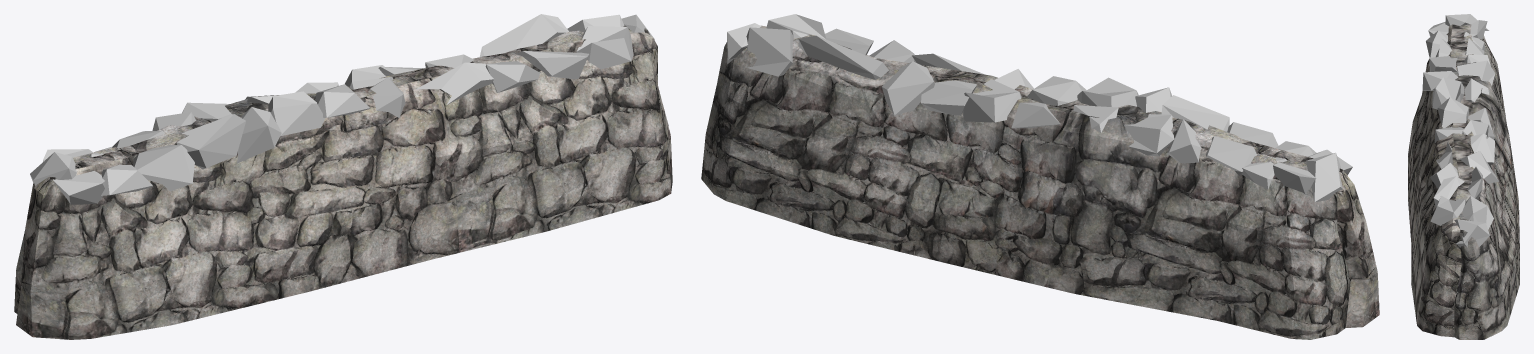
The model's file is Wall_1_LOD2.fbx.
3 views of the same model, side by side, from view 1: azimuth 30°, elevation 25°; view 2: azimuth 150°, elevation 25°; view 3: azimuth 270°, elevation 25° (orthographic). The views are drawn at different scales.
Visible parts, largest first — view 1: Wall, Rock; view 2: Wall, Rock; view 3: Wall, Rock.
Boxes of the visible parts, <box> form: Wall: <box>14,25,672,339</box>; Rock: <box>30,14,654,204</box>; Wall: <box>701,25,1379,339</box>; Rock: <box>727,14,1352,202</box>; Wall: <box>1408,24,1519,339</box>; Rock: <box>1422,14,1498,247</box>.
Bounding box in the file's own units: 822 × 171 × 206.
